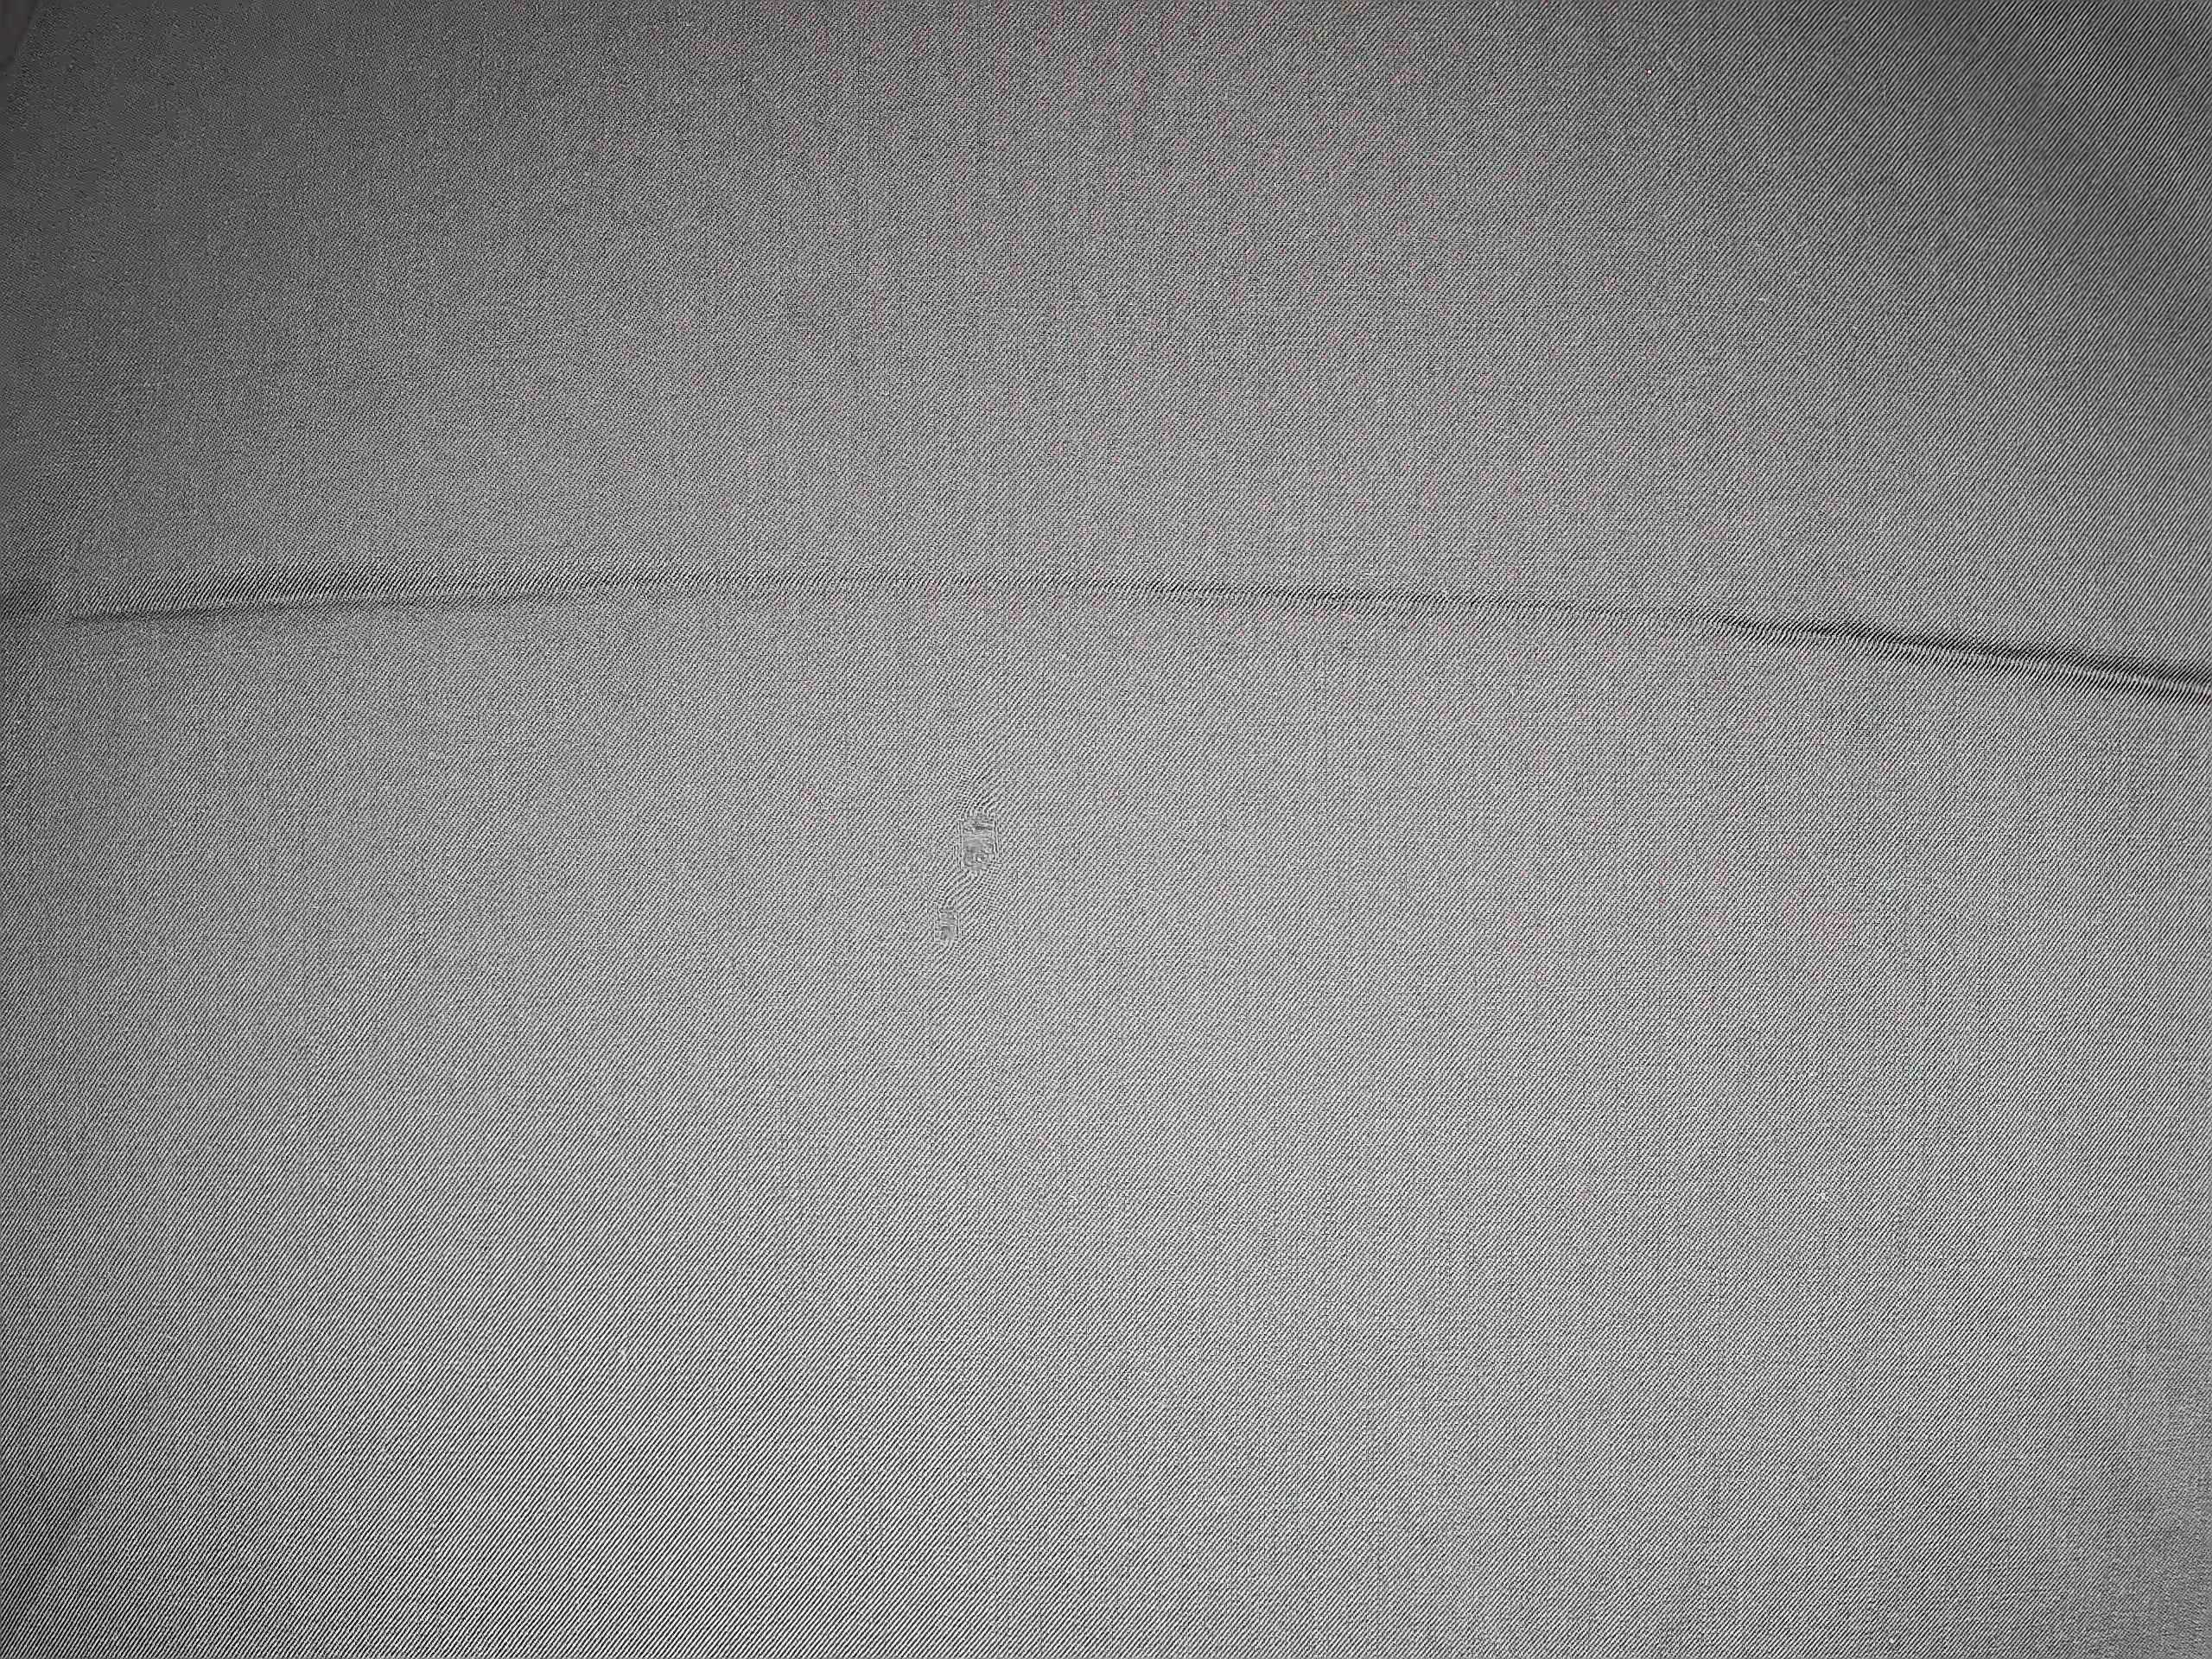brushed-hole: (906, 782, 1029, 972)
